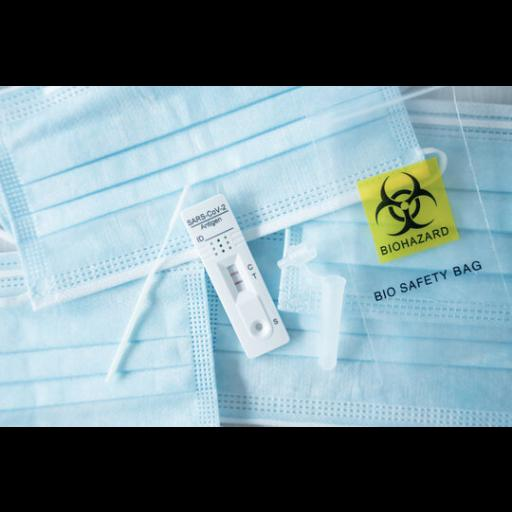Pos: (180, 192, 291, 358)
